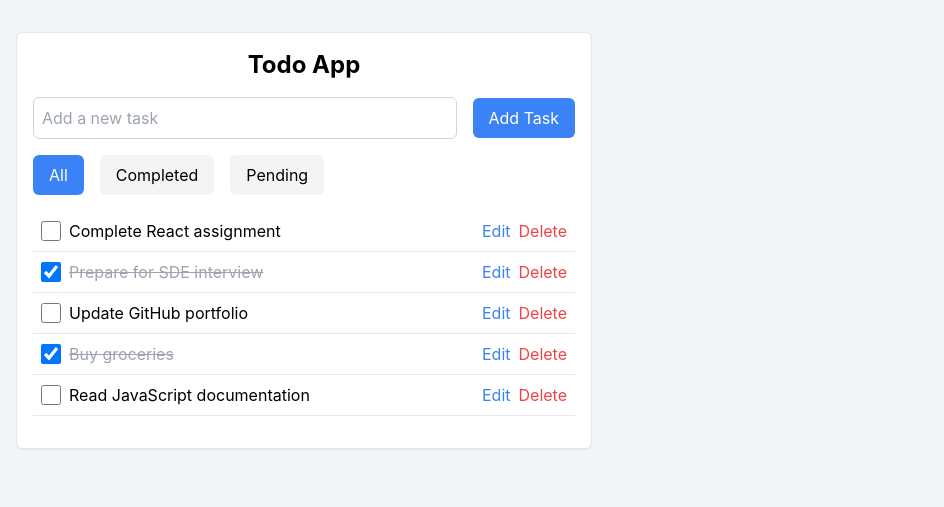
Test: TodoApp Component › allows user to add a new task
The width and height of the screenshot is (944, 507).
In the field with placeholder "Add a new task": (245, 118) left=33, top=97, right=456, bottom=139, type "New Task"
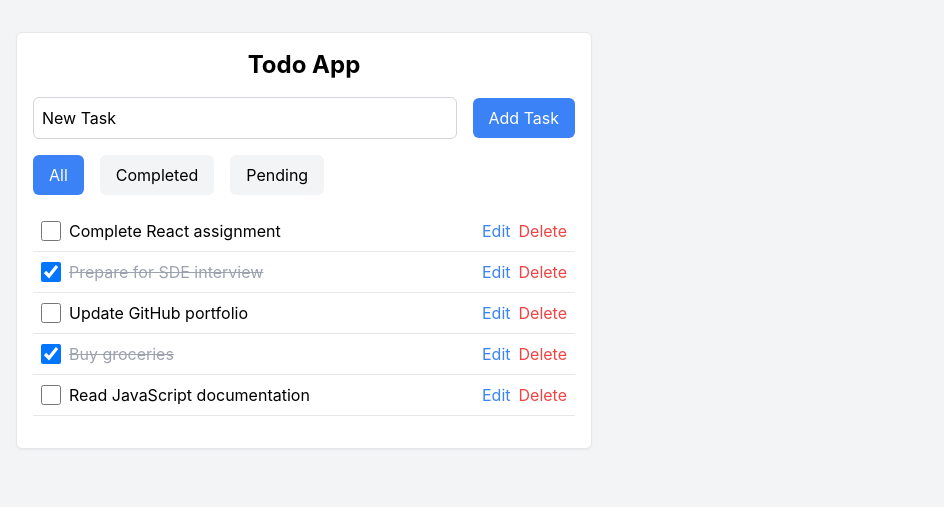
Click the button "Add Task": (524, 118) left=472, top=98, right=575, bottom=138
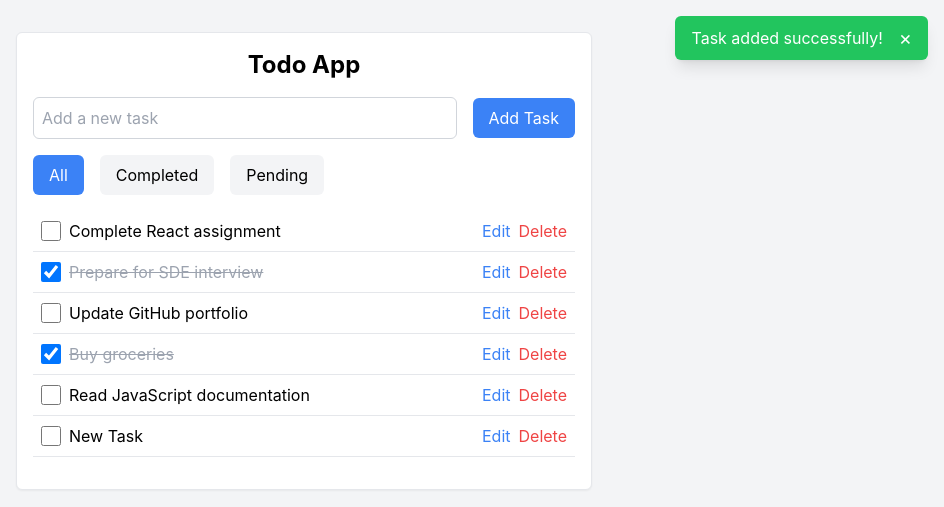
Expected: the text "New Task" is shown, left=69, top=424, right=143, bottom=448
